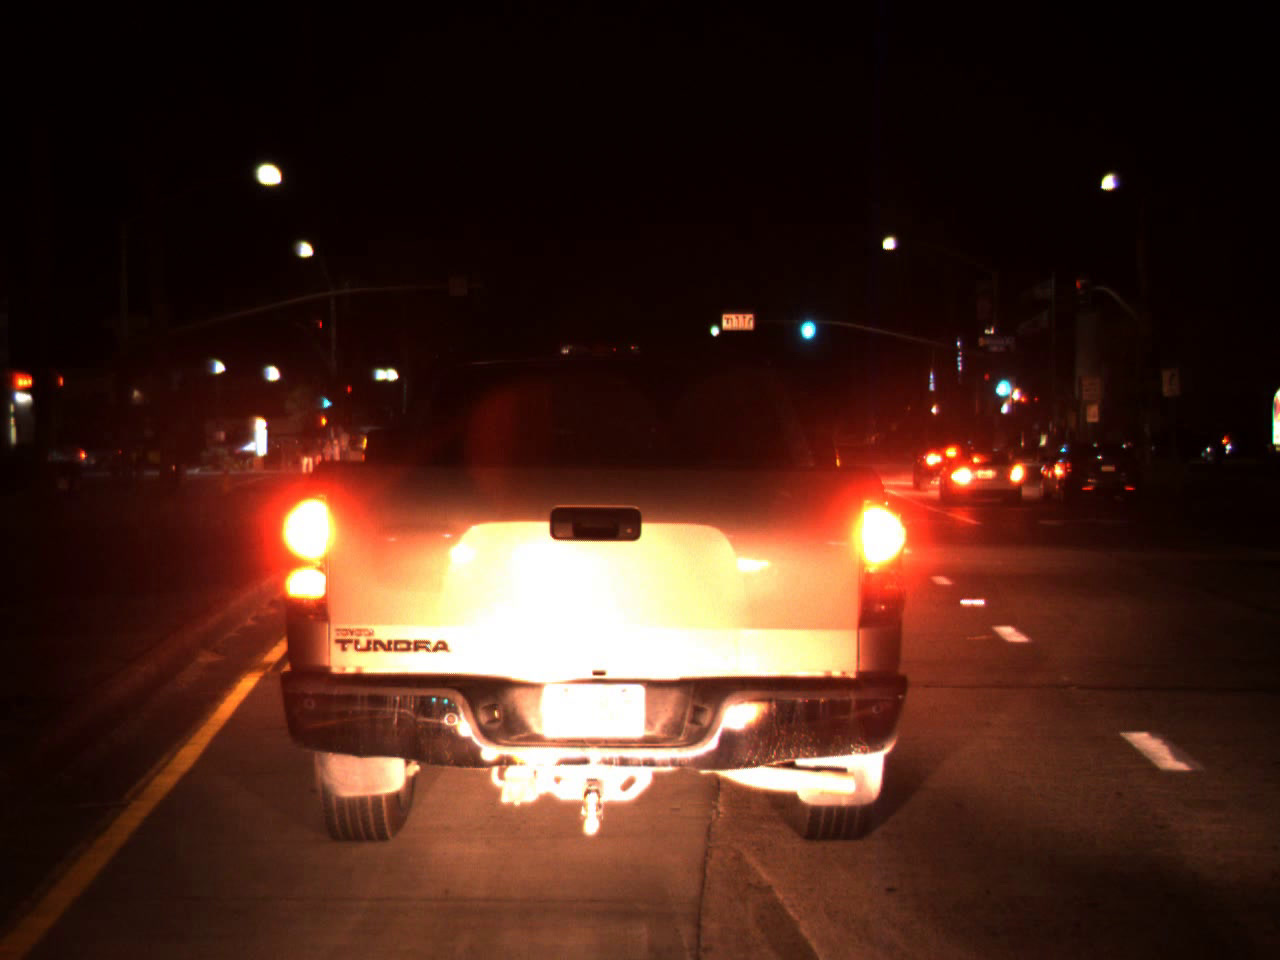go: (795, 298, 818, 346), (989, 360, 1014, 402), (708, 314, 722, 338), (321, 389, 334, 410)
